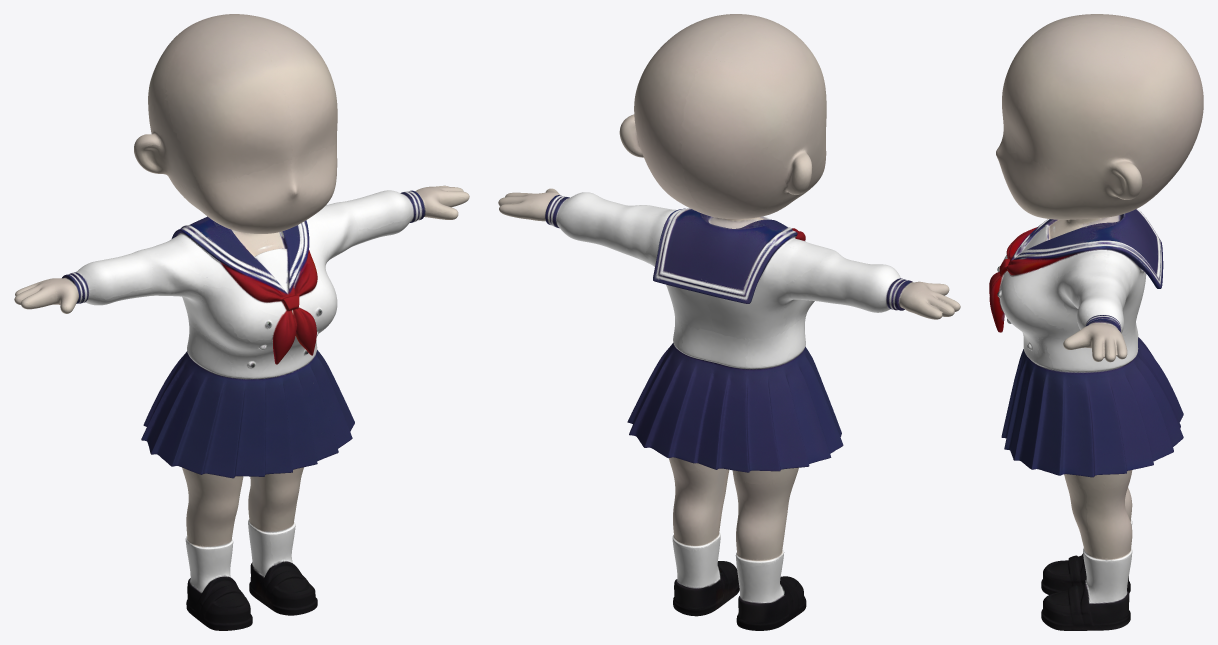
The model's file is baked_outfit_sailor.glb.
The picture shows the model from 3 angles, left to right: view 1: azimuth 30°, elevation 25°; view 2: azimuth 150°, elevation 25°; view 3: azimuth 270°, elevation 25°; orthographic projection.
Size of the model in its own units: 1.55 by 1.9 by 0.6362.
Materials: 1 (1 with a texture image).
